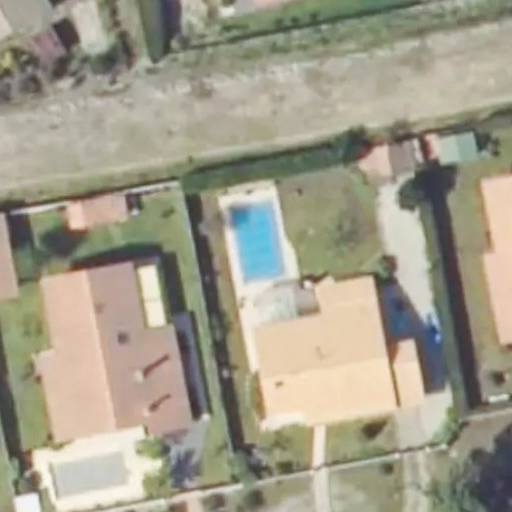pool: (228, 208, 285, 279)
